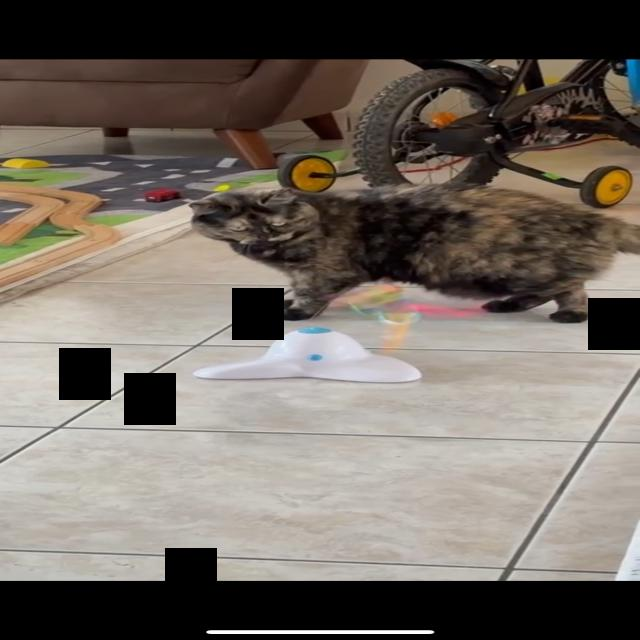authorized: (187, 182, 638, 324)
